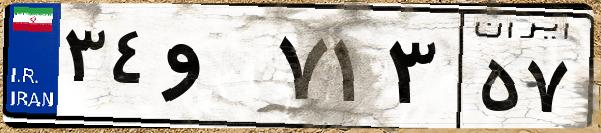1: (330, 28, 385, 110)
3: (385, 28, 445, 110), (57, 26, 110, 100)
4: (110, 28, 158, 98)
5: (475, 38, 525, 113)
7: (270, 28, 330, 110), (525, 38, 570, 115)
و: (158, 20, 270, 120)
